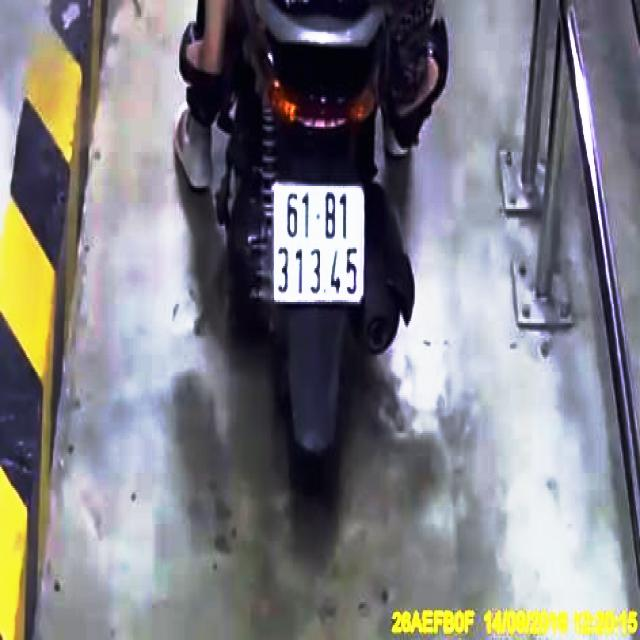license_plate: (274, 184, 365, 301)
